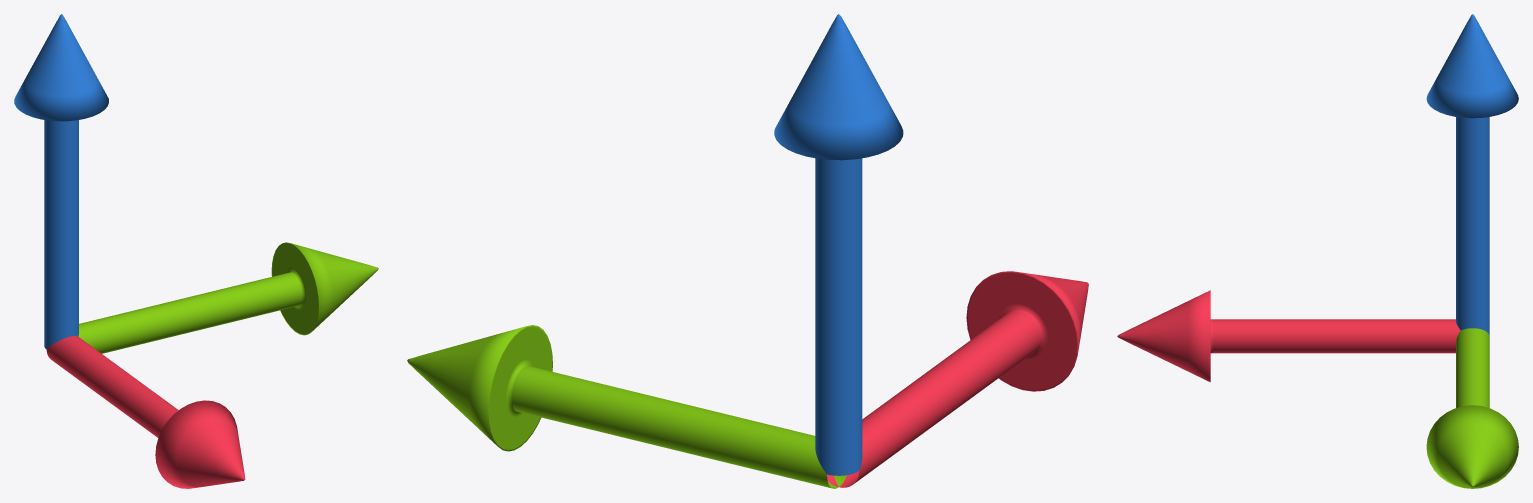
File: gizmo.glb
3 renders of one model, left to right at view 1: azimuth 30°, elevation 25°; view 2: azimuth 150°, elevation 25°; view 3: azimuth 270°, elevation 25°, orthographic. The views are drawn at different scales.
Visible parts, largest first — view 1: Circle; view 2: Circle; view 3: Circle.
Boxes of the visible parts, left/top/right/bottom form: Circle: left=14, top=14, right=378, bottom=488; Circle: left=407, top=14, right=1088, bottom=488; Circle: left=1117, top=14, right=1518, bottom=488.
Bounding box in the file's own units: 1.01 × 1.01 × 1.01.
Materials: 1 (1 with a texture image).
